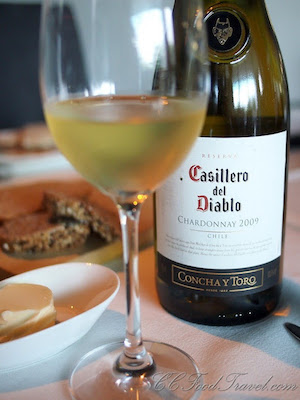casillero del diablo chardonnay: (148, 1, 292, 325)
